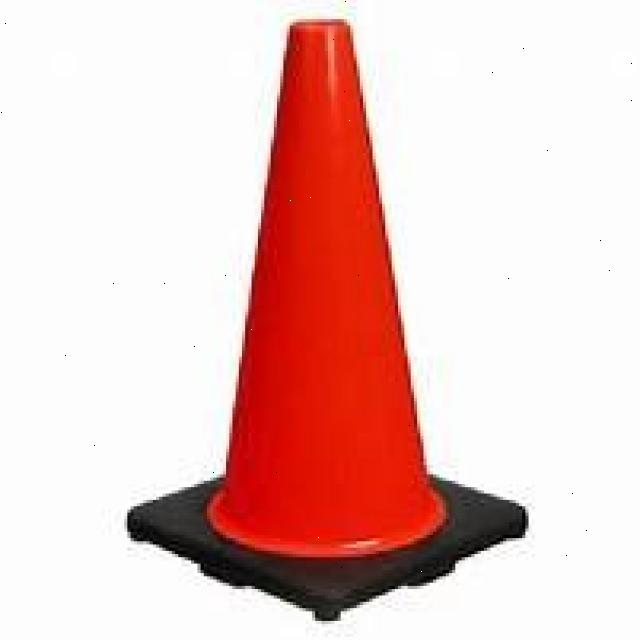traffic cone: (114, 9, 540, 631)
